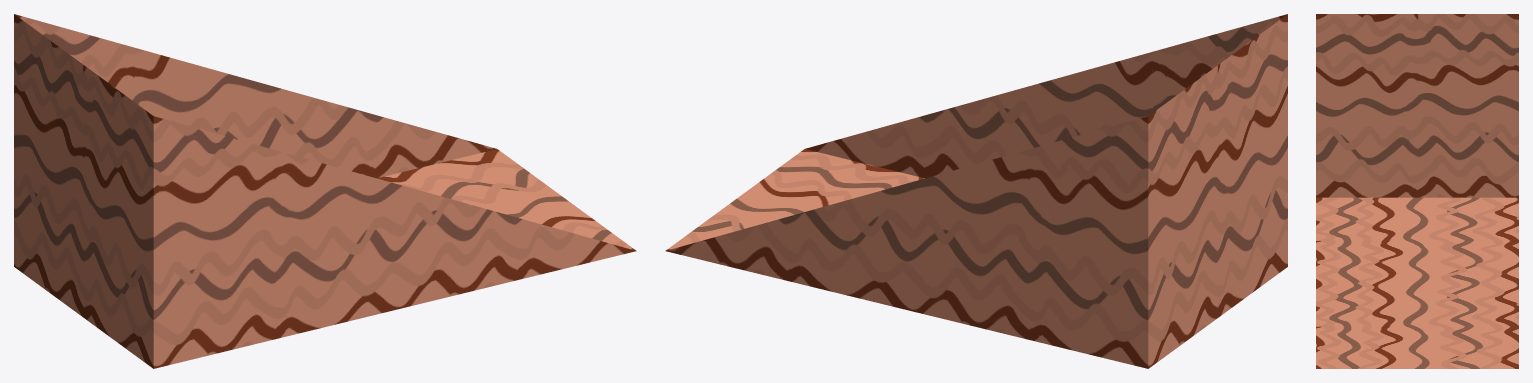
Rendered from a_z2_ground_06.fbx.
3 views of the same model, side by side, from view 1: azimuth 30°, elevation 25°; view 2: azimuth 150°, elevation 25°; view 3: azimuth 270°, elevation 25° (orthographic). The views are drawn at different scales.
Visible parts, largest first — view 1: a_z2_ground_06; view 2: a_z2_ground_06; view 3: a_z2_ground_06.
Part boxes in pixels (bbox=[...]): a_z2_ground_06: bbox=[14, 14, 636, 368]; a_z2_ground_06: bbox=[665, 14, 1287, 368]; a_z2_ground_06: bbox=[1316, 14, 1518, 368].
Bounding box in the file's own units: 600 × 300 × 300.
